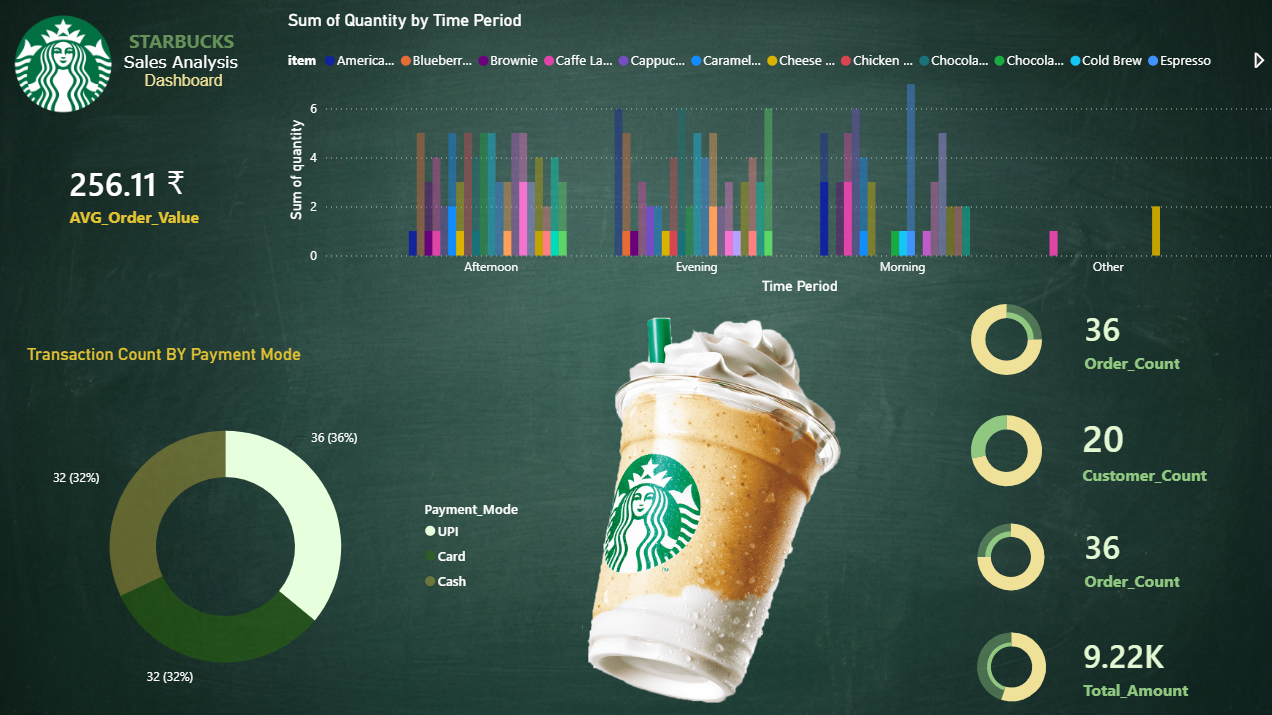

This screenshot's page, from the dashboard's own definition file:
{"tool":"powerbi","page":{"name":"Sales Overview","canvas":[1280,720],"ordinal":1},"visuals":[{"type":"image","box":[10,11.2,110,107.5],"z":0},{"type":"textbox","box":[77.5,23.8,216.2,83.8],"z":1000},{"type":"donutChart","title":"Transaction Count BY Payment Mode","fields":{"Category":["starbucks sales.payment_mode"],"Y":["CountNonNull(starbucks sales.transaction_id)"]},"box":[23.8,345,523.8,375],"z":2000},{"type":"image","box":[533.8,318.8,358.8,385],"z":3000},{"type":"clusteredColumnChart","title":"Sum of Quantity by Time Period","fields":{"Category":["starbucks sales.Time Period"],"Series":["starbucks items.item"],"Y":["Sum(starbucks sales.quantity)"]},"box":[285,11.2,995,288.8],"z":4000},{"type":"cardVisual","fields":{"Data":["_Measure.Customer_Count"]},"box":[1067.5,393.8,196.2,111.2],"z":5000},{"type":"cardVisual","fields":{"Data":["_Measure.Order_Count"]},"box":[1057.5,506.2,196.2,105],"z":6000},{"type":"cardVisual","fields":{"Data":["_Measure.Total_Amount"]},"box":[1056.2,615,196.2,105],"z":6001},{"type":"cardVisual","fields":{"Data":["_Measure.Order_Count"]},"box":[1057.5,288.8,196.2,105],"z":6002},{"type":"donutChart","fields":{"Y":["_Measure.Order_Count","_Measure.Total_Order_target"]},"box":[937.5,291.2,142.5,98.8],"z":6003},{"type":"donutChart","fields":{"Y":["_Measure.Total_Cust_Target","_Measure.Customer_Count"]},"box":[932.5,402.5,152.5,98.8],"z":6004},{"type":"donutChart","fields":{"Y":["_Measure.Total_Order_target","_Measure.Order_Count"]},"box":[941.2,511.2,143.8,93.8],"z":6005},{"type":"donutChart","fields":{"Y":["_Measure.Daily_Sale","_Measure.Total_Amount"]},"box":[935,620,157.5,96.2],"z":6006},{"type":"cardVisual","fields":{"Data":["_Measure.AVG_Order_Value"]},"box":[42.5,136.2,207.5,118.8],"z":6007},{"type":"textbox","box":[163.3,156,62.5,53.8],"z":6008}]}

Visuals, with their boxes in screenshot pixels (x1, y1, x2, y2), scaled from the page's 1280x720 canvas onto the 1272x715 screenshot:
image: BBox(10, 11, 119, 118)
textbox: BBox(77, 24, 292, 107)
"Transaction Count BY Payment Mode" donutChart: BBox(24, 343, 544, 714)
image: BBox(530, 317, 887, 699)
"Sum of Quantity by Time Period" clusteredColumnChart: BBox(283, 11, 1271, 298)
cardVisual - _Measure.Customer_Count: BBox(1061, 391, 1256, 501)
cardVisual - _Measure.Order_Count: BBox(1051, 503, 1246, 607)
cardVisual - _Measure.Total_Amount: BBox(1050, 611, 1245, 714)
cardVisual - _Measure.Order_Count: BBox(1051, 287, 1246, 391)
donutChart - _Measure.Order_Count x _Measure.Total_Order_target: BBox(932, 289, 1073, 387)
donutChart - _Measure.Total_Cust_Target x _Measure.Customer_Count: BBox(927, 400, 1078, 498)
donutChart - _Measure.Total_Order_target x _Measure.Order_Count: BBox(935, 508, 1078, 601)
donutChart - _Measure.Daily_Sale x _Measure.Total_Amount: BBox(929, 616, 1086, 711)
cardVisual - _Measure.AVG_Order_Value: BBox(42, 135, 248, 253)
textbox: BBox(162, 155, 224, 208)
